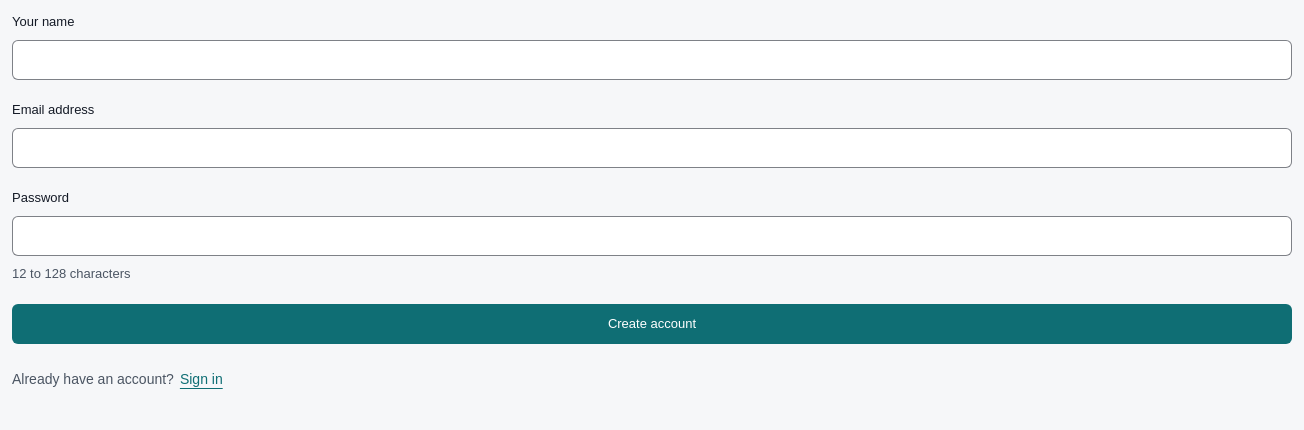
Test case: SignUpForm (UI-002) › refuses a password under 12 characters and keeps the hint on the field
Type "Lena Ortiz" into the field labelled "Your name" at (652, 60), box x1=12 y1=40 x2=1292 y2=80
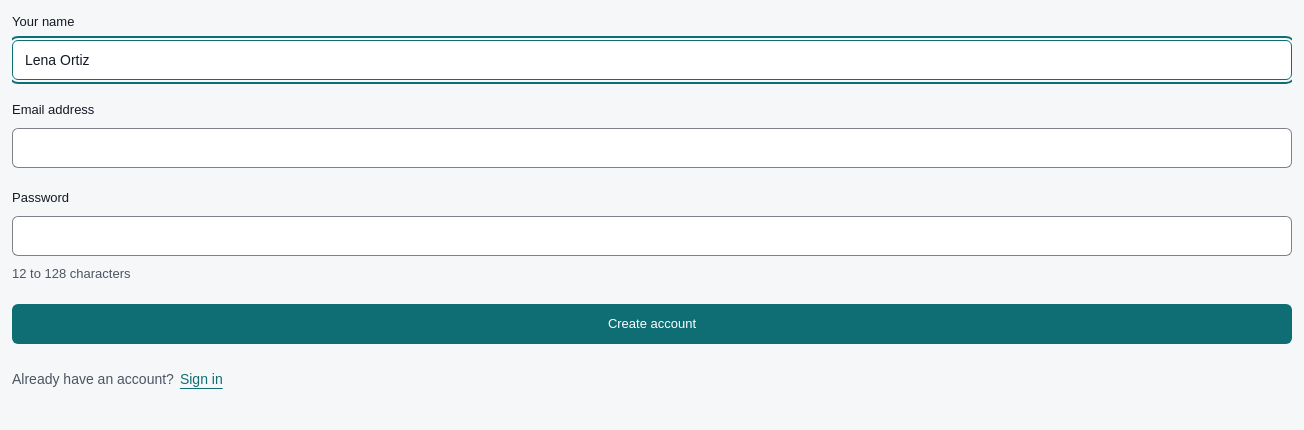
Type "lena@example.edu" into the field labelled "Email address" at (652, 148), box x1=12 y1=128 x2=1292 y2=168
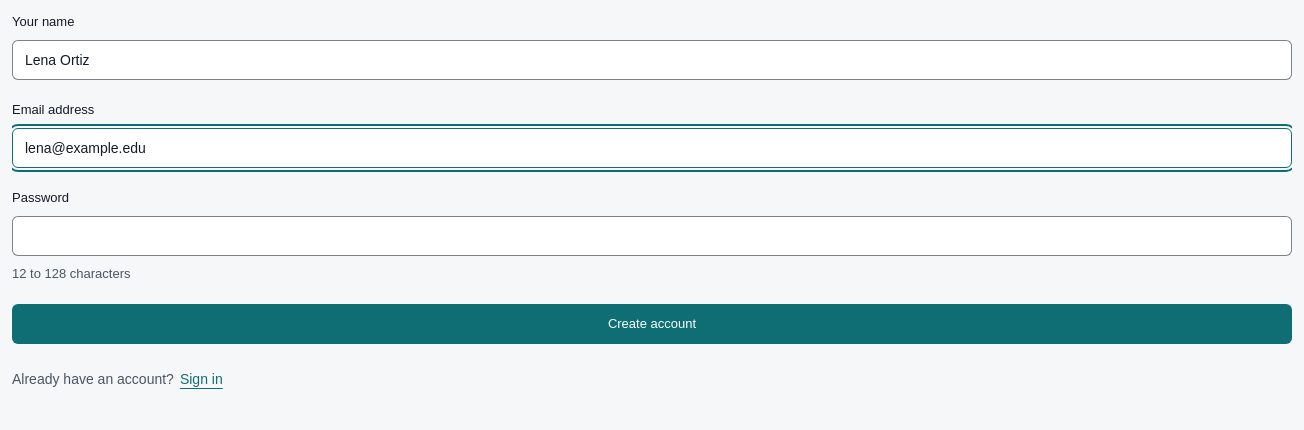
Type "short" into the password field labelled "Password" at (652, 236), box x1=12 y1=216 x2=1292 y2=256
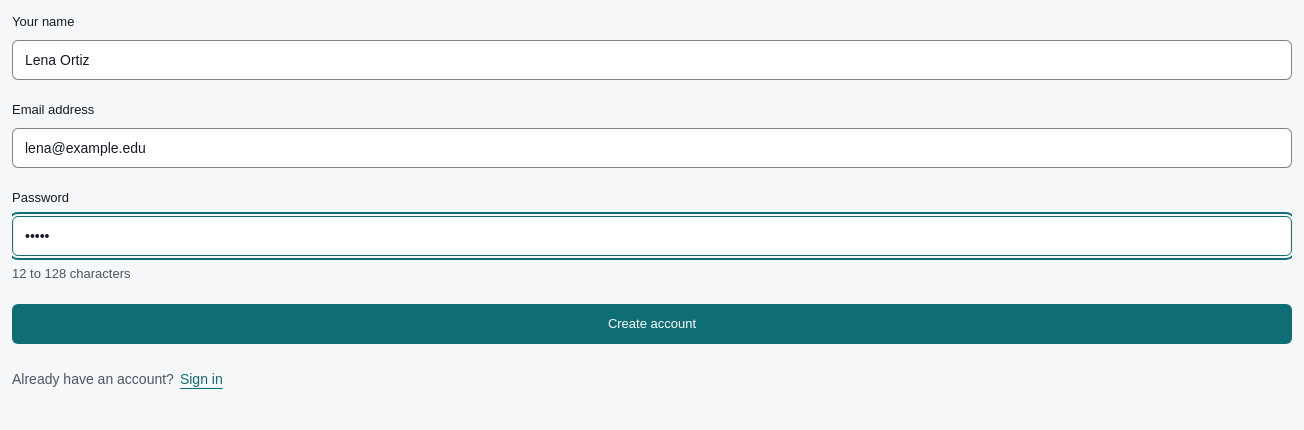
Click the button "Create account" at (652, 324), box x1=12 y1=304 x2=1292 y2=344
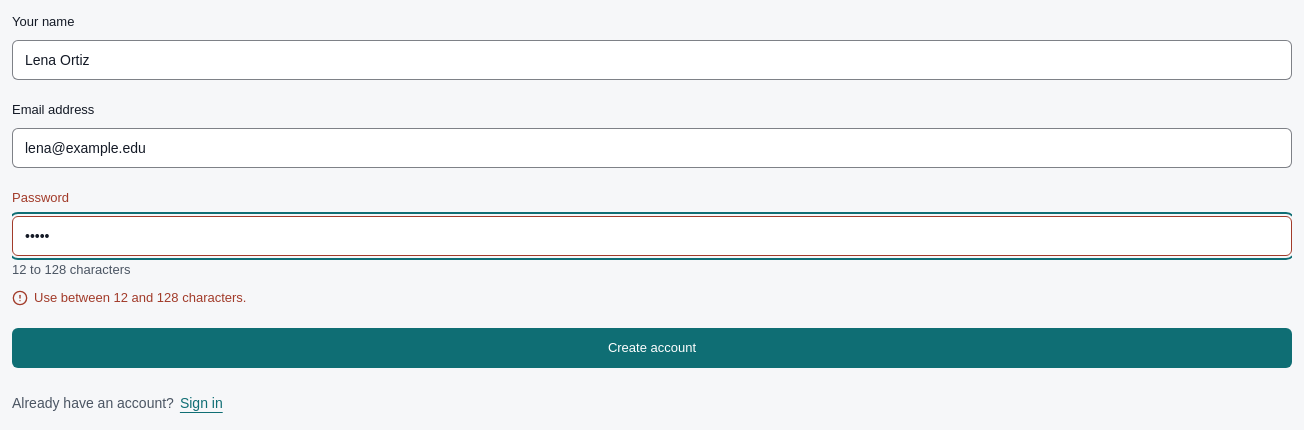
Expected: the text "12 to 128 characters" is shown, x1=12 y1=262 x2=130 y2=277
Now the text "Use between 12 and 128 characters." is shown, box x1=34 y1=290 x2=246 y2=305
